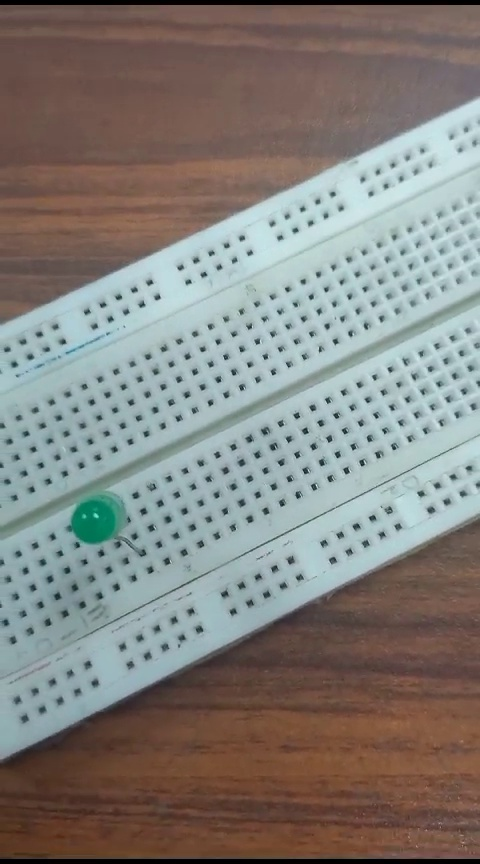LED: (66, 492, 162, 552)
